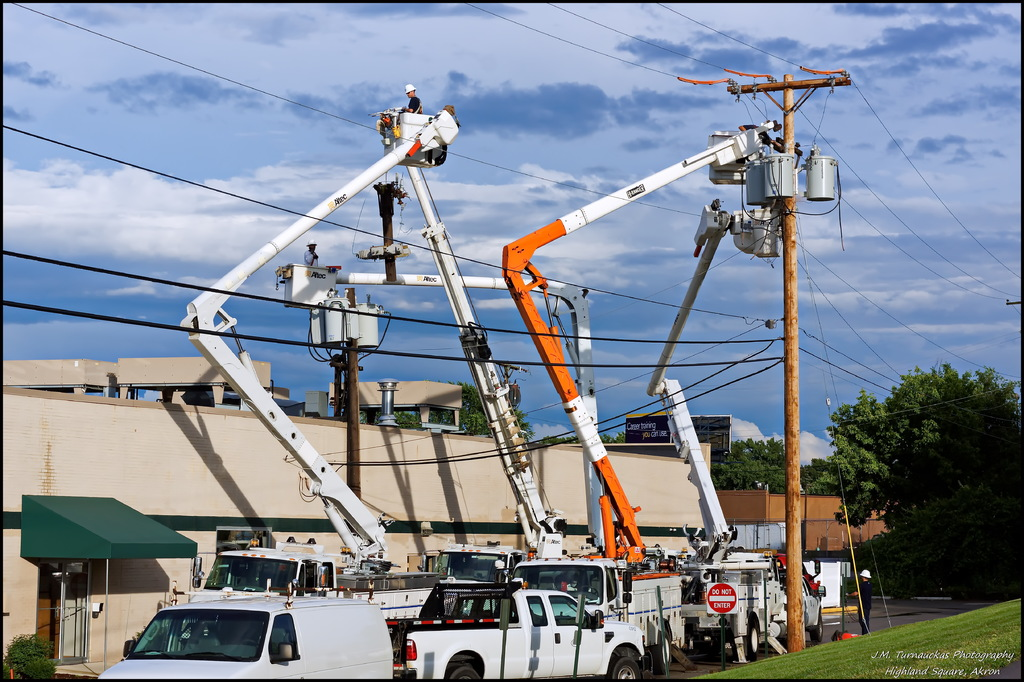car: (100, 575, 419, 682), (407, 577, 651, 682)
truck: (188, 529, 443, 628), (512, 538, 698, 670)
